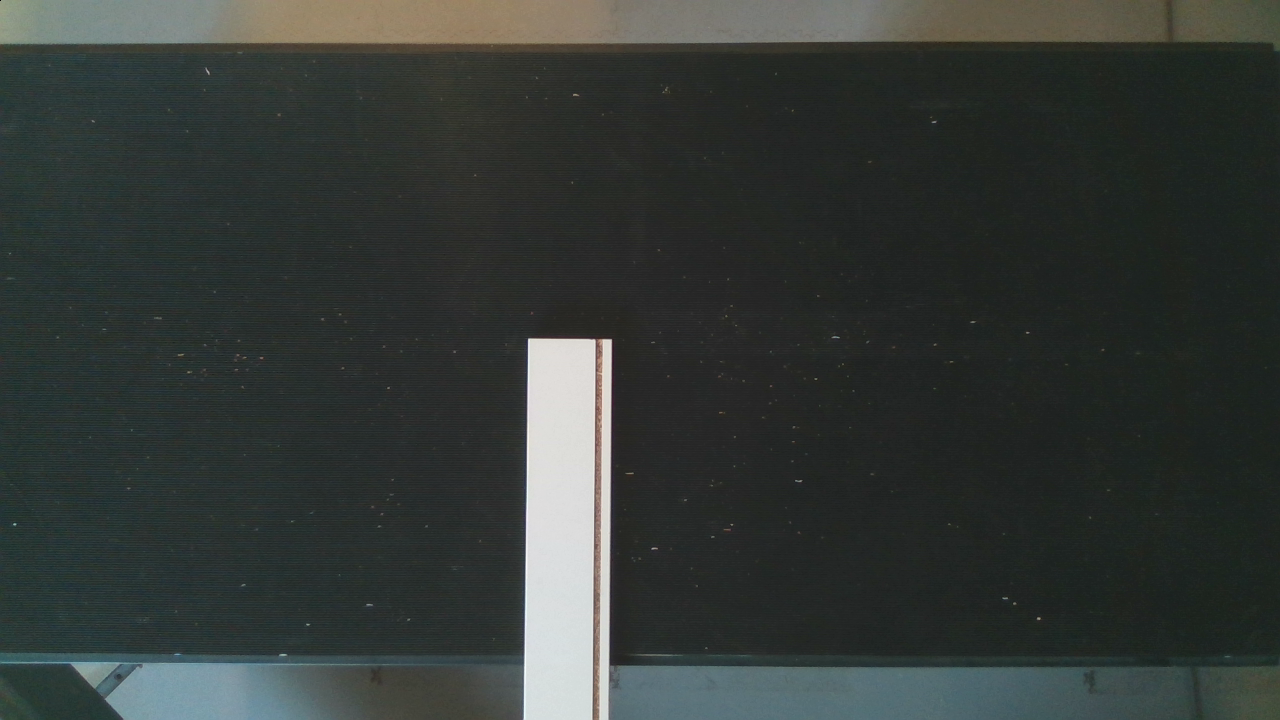part1: (506, 322, 653, 720)
